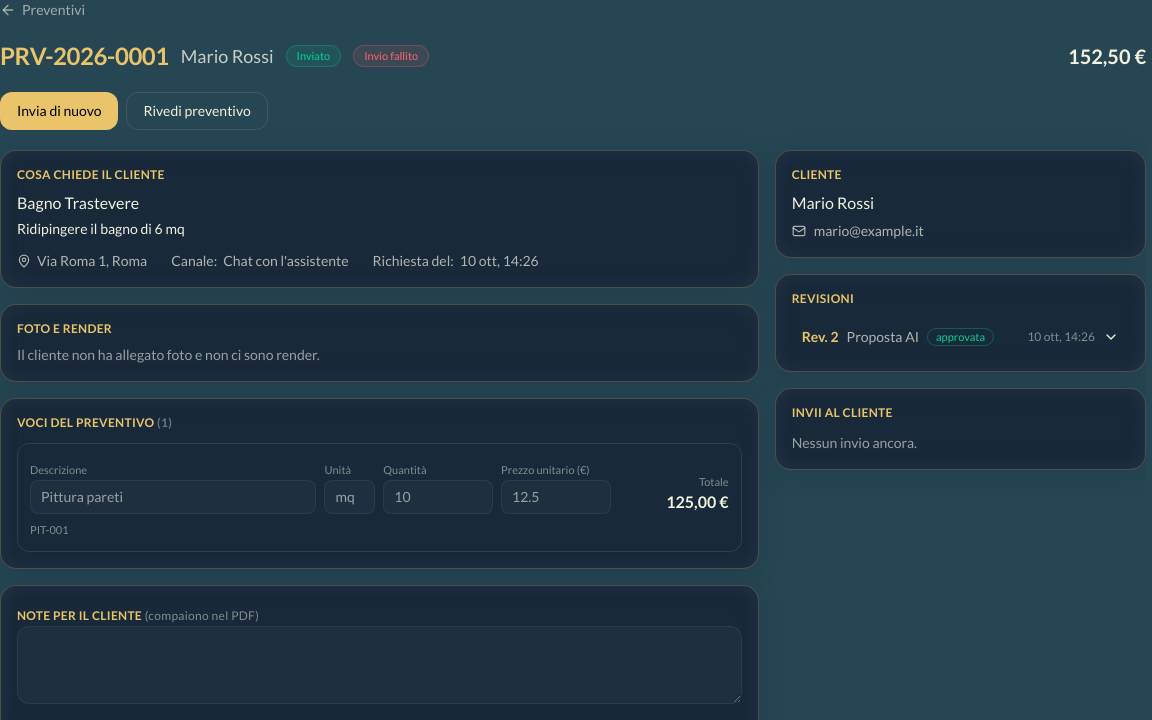
Scenario: DossierView › revising a quote that was already sent › does not claim a date when the send was never confirmed
Click the button with test id "btn-revise".
click(197, 111)  # box [126,92,268,130]
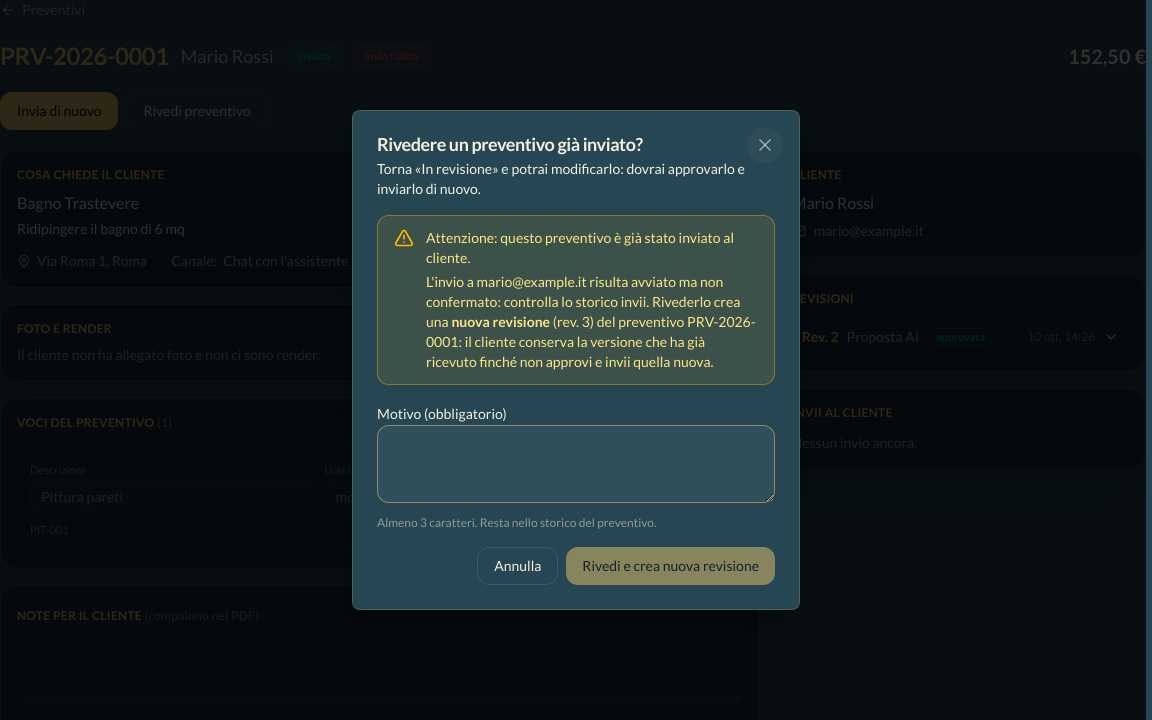
Expected: the message with test id "revise-warning" shows "non confermato", [426,273,723,310]
